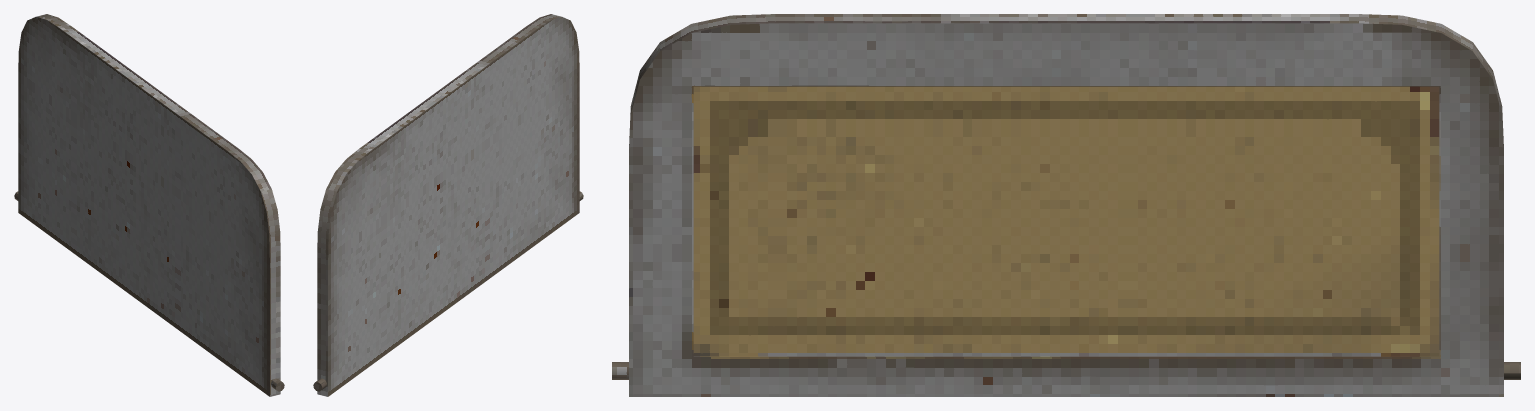
Rendered from Freezer_Door.glb.
3 views of the same model, side by side, from view 1: azimuth 30°, elevation 25°; view 2: azimuth 150°, elevation 25°; view 3: azimuth 270°, elevation 25° (orthographic). The views are drawn at different scales.
Parts seen in each view (by area): view 1: Freezer_Door; view 2: Freezer_Door; view 3: Freezer_Door.
Boxes of the visible parts, x1,y1,x2,y2 form: Freezer_Door: (14, 14, 284, 396); Freezer_Door: (313, 14, 583, 396); Freezer_Door: (612, 14, 1520, 396).
Bounding box in the file's own units: 0.019 × 0.3573 × 0.7876.
Materials: 1 (1 with a texture image).
